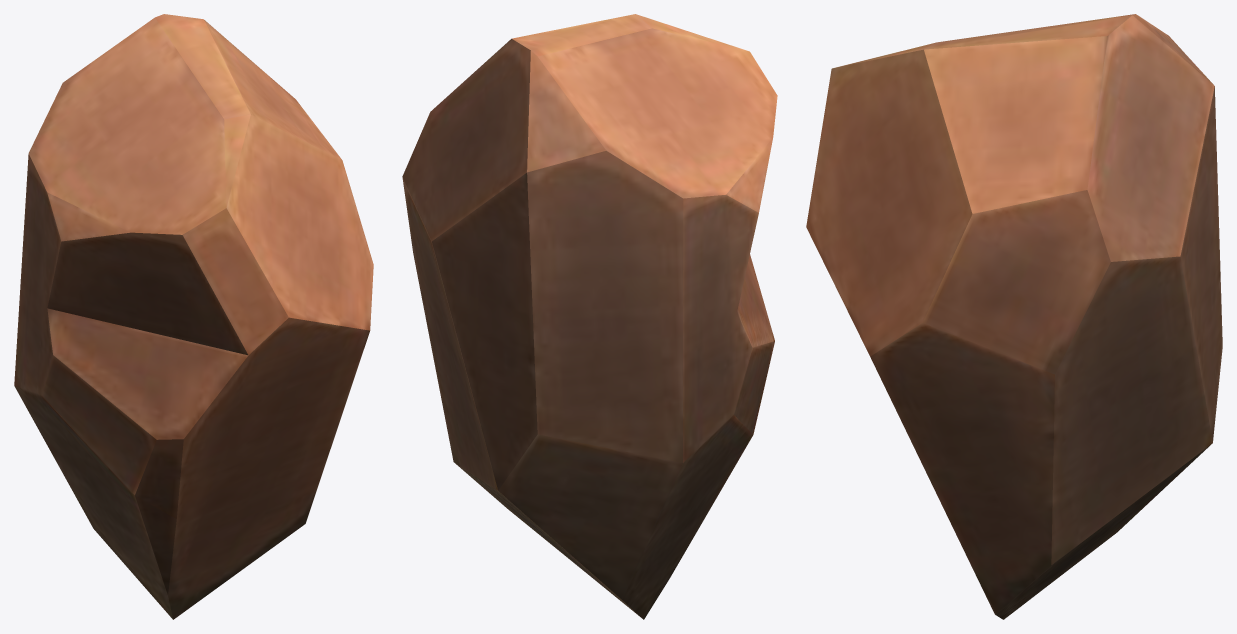
File: rock-large-0.glb
3 renders of one model, left to right at view 1: azimuth 30°, elevation 25°; view 2: azimuth 150°, elevation 25°; view 3: azimuth 270°, elevation 25°, orthographic. The views are drawn at different scales.
Parts seen in each view (by area): view 1: L_Rock_01_0; view 2: L_Rock_01_0; view 3: L_Rock_01_0.
Boxes of the visible parts, x1,y1,x2,y2 form: L_Rock_01_0: (14,14,373,619); L_Rock_01_0: (402,14,777,619); L_Rock_01_0: (806,14,1222,619).
Bounding box in the file's own units: 1.48 × 2.61 × 1.56.
Materials: 1 (1 with a texture image).
